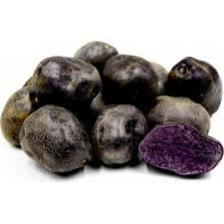Damaged potato: (19, 104, 94, 176), (135, 120, 223, 180), (30, 52, 98, 110), (98, 49, 160, 112), (166, 54, 222, 120), (94, 102, 150, 166)
